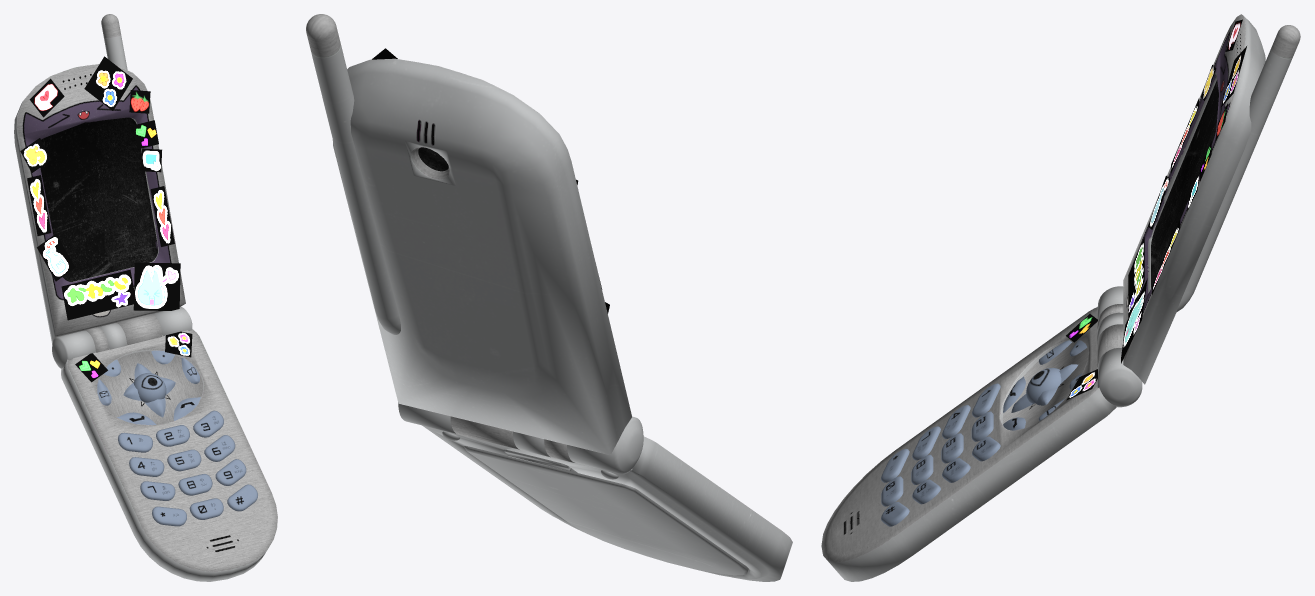
The model's file is flip_phone.glb.
3 views of the same model, side by side, from view 1: azimuth 30°, elevation 25°; view 2: azimuth 150°, elevation 25°; view 3: azimuth 270°, elevation 25° (orthographic). The views are drawn at different scales.
Visible parts, largest first — view 1: bottomPhone_low, antenna_low, Plane.012, Plane.011, Plane.005, Plane.013, Plane.009, Plane.010, Plane.004, Plane.014, Plane.016, Plane.007 (+3 smaller); view 2: antenna_low, bottomPhone_low; view 3: bottomPhone_low, antenna_low, Plane.012, Plane.011.
Part boxes in pixels (x1,y1,x2,y2): bottomPhone_low: [52, 307, 277, 581]; antenna_low: [14, 14, 185, 344]; Plane.012: [61, 269, 136, 320]; Plane.011: [133, 262, 180, 310]; Plane.005: [84, 56, 132, 110]; Plane.013: [37, 234, 74, 281]; Plane.009: [27, 175, 51, 235]; Plane.010: [150, 186, 174, 246]; Plane.004: [29, 78, 64, 117]; Plane.014: [20, 138, 51, 172]; Plane.016: [165, 331, 192, 357]; Plane.007: [133, 120, 158, 149]; antenna_low: [306, 14, 631, 455]; bottomPhone_low: [398, 402, 792, 581]; bottomPhone_low: [821, 286, 1142, 581]; antenna_low: [1123, 14, 1300, 384]; Plane.012: [1128, 237, 1144, 319]; Plane.011: [1121, 278, 1147, 363].
Size of the model in its own units: 1.75 by 5.24 by 3.97.
Materials: 2 (2 with a texture image).
